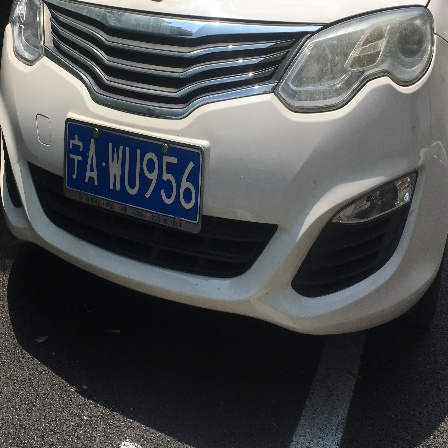plate: (61, 114, 204, 232)
